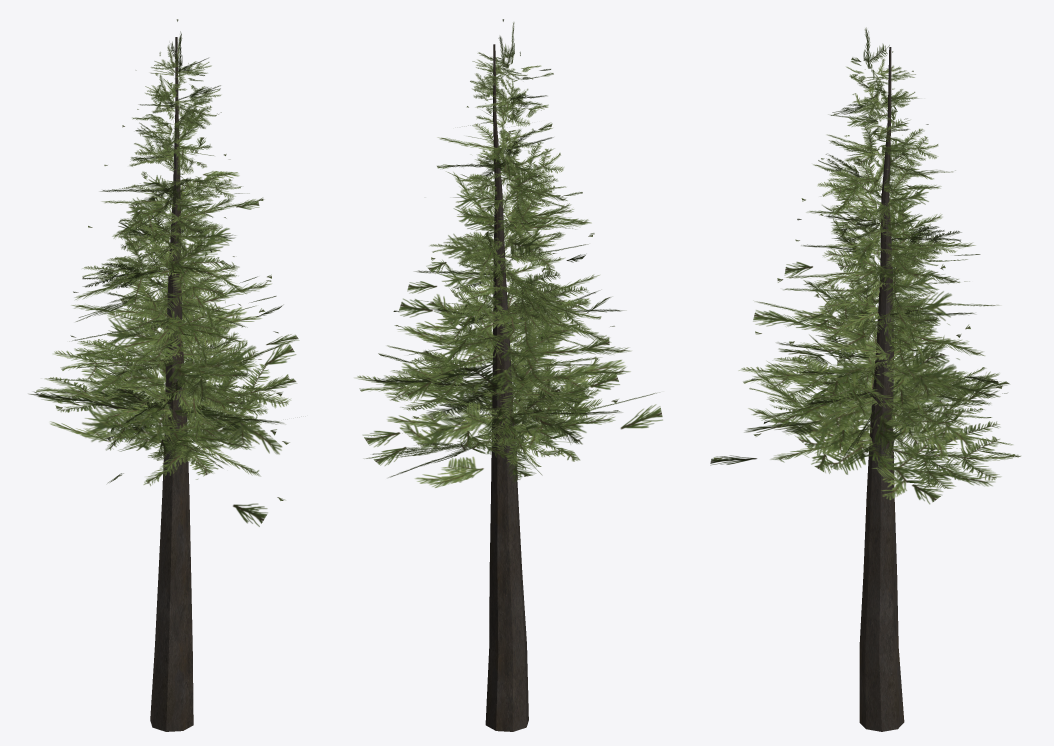
The model's file is prop_tree_pine_b.glb.
The picture shows the model from 3 angles, left to right: view 1: azimuth 30°, elevation 25°; view 2: azimuth 150°, elevation 25°; view 3: azimuth 270°, elevation 25°; orthographic projection.
Visible parts, largest first — view 1: conifer_pine_22; view 2: conifer_pine_22; view 3: conifer_pine_22.
Part boxes in pixels (box(x1,y1,x2,y2)): conifer_pine_22: box(29, 19, 299, 731); conifer_pine_22: box(355, 19, 662, 731); conifer_pine_22: box(710, 27, 1020, 731).
Size of the model in its own units: 5.57 by 13.95 by 5.98.
2 materials, 2 textured.
